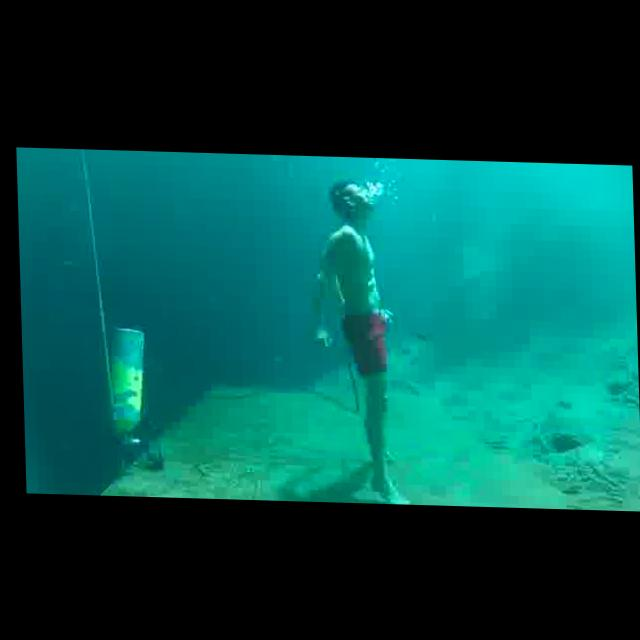human: (307, 165, 408, 502)
